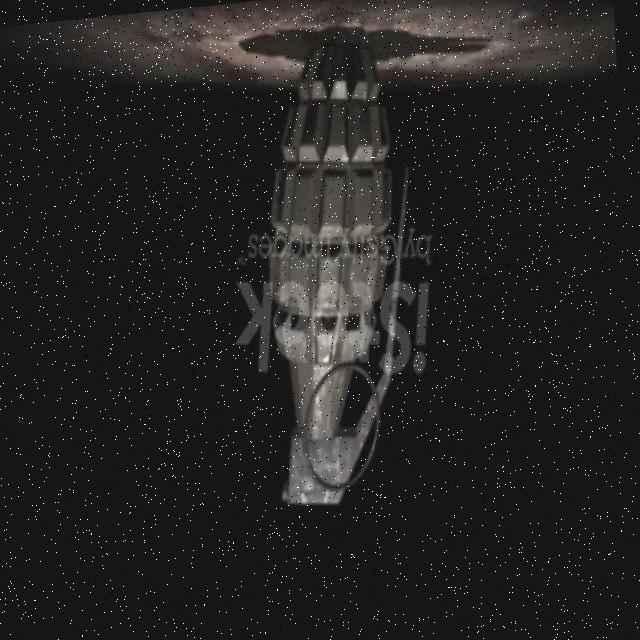grenade: (210, 18, 463, 523)
